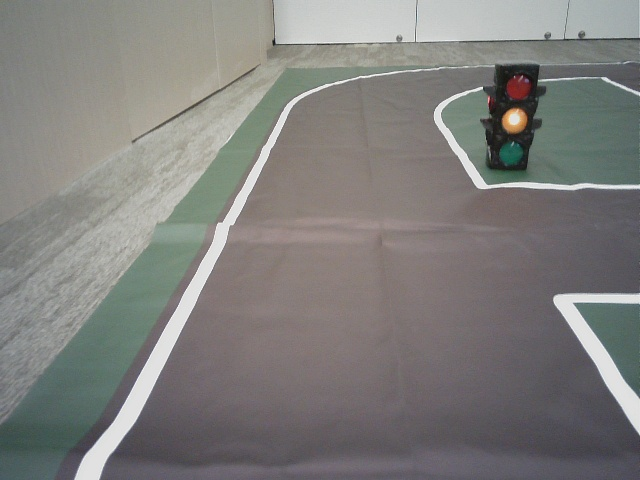yellow: (496, 69, 531, 167)
